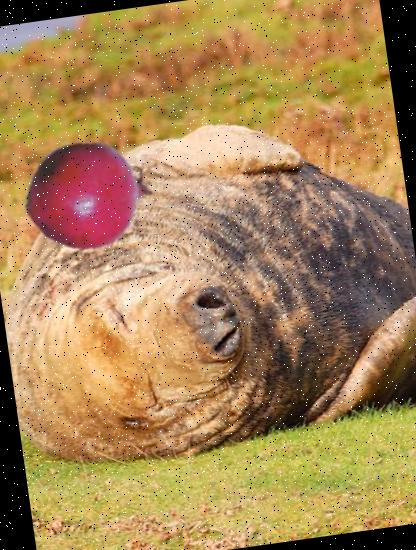Pomegranate: (15, 124, 158, 267)
